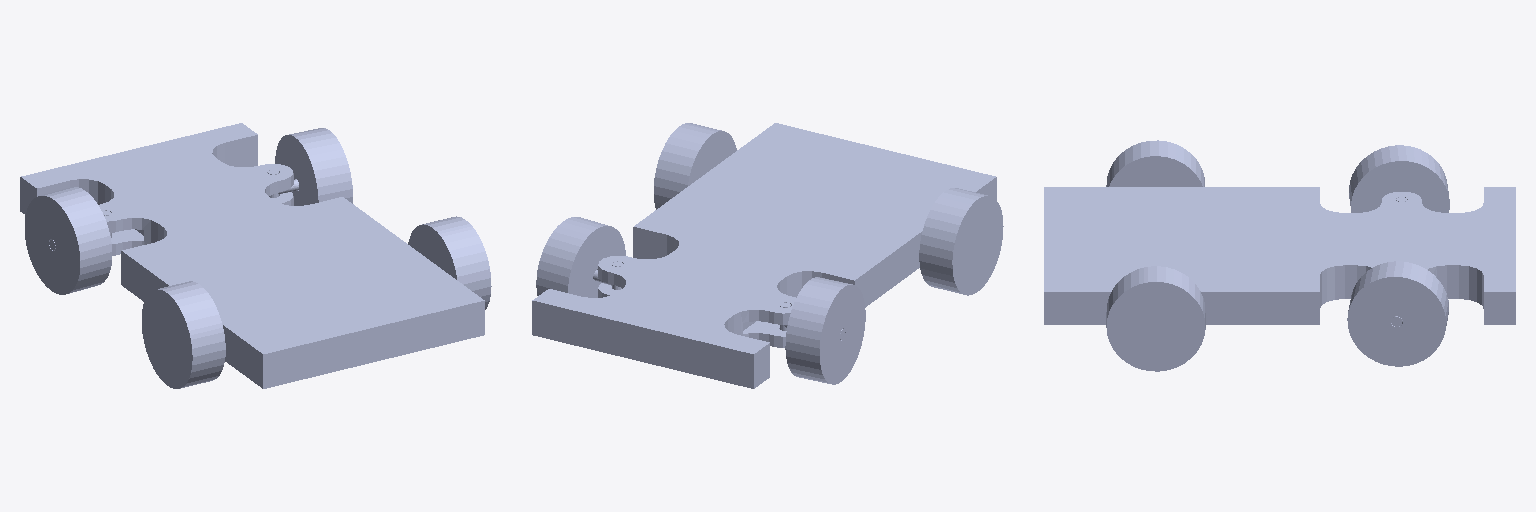
robot.urdf — sfinal:
<?xml version="1.0" encoding="utf-8"?>
<!-- This URDF was automatically created by SolidWorks to URDF Exporter! Originally created by [author] ([email redacted]) 
     Commit Version: 1.6.0-1-g15f4949  Build Version: 1.6.7594.29634
     For more information, please see http://wiki.ros.org/sw_urdf_exporter -->
<robot
  name="sfinal">
  <link name="dummylink">
  </link>
  <joint name="dummyjoint" type="fixed">
    <parent link="dummylink" />
    <child link="body" />
  </joint>
  <link
    name="body">
    <inertial>
      <origin
        xyz="4.62807247742842E-18 0.0381 0.0421106215624483"
        rpy="0 0 0" />
      <mass
        value="31.7717428185929" />
      <inertia
        ixx="2.45443901786196"
        ixy="1.5021599923963E-18"
        ixz="-2.48737455154281E-16"
        iyy="3.02159355147635"
        iyz="7.22547203238704E-18"
        izz="0.598373472245415" />
    </inertial>
    <visual>
      <origin
        xyz="0 0 0"
        rpy="0 0 0" />
      <geometry>
        <mesh
          filename="package://sfinal/meshes/body.STL" />
      </geometry>
      <material
        name="">
        <color
          rgba="0.792156862745098 0.819607843137255 0.933333333333333 1" />
      </material>
    </visual>
    <collision>
      <origin
        xyz="0 0 0"
        rpy="0 0 0" />
      <geometry>
        <mesh
          filename="package://sfinal/meshes/body.STL" />
      </geometry>
    </collision>
  </link>
  <link
    name="Front_Peg_L">
    <inertial>
      <origin
        xyz="0.0414241862736242 0.0380999954119112 2.94223301278151E-09"
        rpy="0 0 0" />
      <mass
        value="0.0794178912632823" />
      <inertia
        ixx="1.93166442907651E-05"
        ixy="6.63314076682969E-12"
        ixz="-5.57898019363171E-13"
        iyy="0.000147464981510183"
        iyz="1.28012400109424E-10"
        izz="0.000161541723087934" />
    </inertial>
    <visual>
      <origin
        xyz="0 0 0"
        rpy="0 0 0" />
      <geometry>
        <mesh
          filename="package://sfinal/meshes/Front_Peg_L.STL" />
      </geometry>
      <material
        name="">
        <color
          rgba="0.792156862745098 0.819607843137255 0.933333333333333 1" />
      </material>
    </visual>
    <collision>
      <origin
        xyz="0 0 0"
        rpy="0 0 0" />
      <geometry>
        <mesh
          filename="package://sfinal/meshes/Front_Peg_L.STL" />
      </geometry>
    </collision>
  </link>
  <joint
    name="Peg_L_Joint"
    type="revolute">
    <origin
      xyz="-0.19241 0.24963 0"
      rpy="1.5708 0 -3.0857" />
    <parent
      link="body" />
    <child
      link="Front_Peg_L" />
    <axis
      xyz="0 1 0" />
    <limit
      lower="-1.047"
      upper="1.047"
      effort="0"
      velocity="0" />
  </joint>
  <!-- <transmission name="left_steering_transmission">
      <type>transmission_interface/SimpleTransmission</type>
      <joint name="Peg_L_Joint">
        <hardwareInterface>hardware_interface/EffortJointInterface</hardwareInterface>
      </joint>
      <actuator name="left_steering_transmission_motor">
        <mechanicalReduction>1</mechanicalReduction>
        <hardwareInterface>hardware_interface/EffortJointInterface</hardwareInterface>
      </actuator>
  </transmission> -->
  <link
    name="Front_Wheel_L">
    <inertial>
      <origin
        xyz="-0.0378620487147911 5.55111512312578E-17 0"
        rpy="0 0 0" />
      <mass
        value="2.43249992415545" />
      <inertia
        ixx="0.0127509821649285"
        ixy="6.7762635780344E-19"
        ixz="2.74438674910393E-19"
        iyy="0.00755250482076537"
        iyz="-2.16840434497101E-19"
        izz="0.00755250482076537" />
    </inertial>
    <visual>
      <origin
        xyz="0 0 0"
        rpy="0 0 0" />
      <geometry>
        <mesh
          filename="package://sfinal/meshes/Front_Wheel_L.STL" />
      </geometry>
      <material
        name="">
        <color
          rgba="0.792156862745098 0.819607843137255 0.933333333333333 1" />
      </material>
    </visual>
    <collision>
      <origin
        xyz="0 0 0"
        rpy="0 0 0" />
      <geometry>
        <mesh
          filename="package://sfinal/meshes/Front_Wheel_L.STL" />
      </geometry>
    </collision>
  </link>
  <joint
    name="Wheel_L_Joint"
    type="continuous">
    <origin
      xyz="0.051038 0.0381 0"
      rpy="-1.7102 0 3.1416" />
    <parent
      link="Front_Peg_L" />
    <child
      link="Front_Wheel_L" />
    <axis
      xyz="1 0 0" />
  </joint>
  <link
    name="Front_Peg_R">
    <inertial>
      <origin
        xyz="0.0414241862180602 -0.0381000063821036 4.02376604258237E-09"
        rpy="0 0 0" />
      <mass
        value="0.0794178917151869" />
      <inertia
        ixx="1.9316644225953E-05"
        ixy="9.24219008763816E-12"
        ixz="-1.65264621611017E-12"
        iyy="0.000147464980958411"
        iyz="1.27986923700734E-10"
        izz="0.000161541722659423" />
    </inertial>
    <visual>
      <origin
        xyz="0 0 0"
        rpy="0 0 0" />
      <geometry>
        <mesh
          filename="package://sfinal/meshes/Front_Peg_R.STL" />
      </geometry>
      <material
        name="">
        <color
          rgba="0.792156862745098 0.819607843137255 0.933333333333333 1" />
      </material>
    </visual>
    <collision>
      <origin
        xyz="0 0 0"
        rpy="0 0 0" />
      <geometry>
        <mesh
          filename="package://sfinal/meshes/Front_Peg_R.STL" />
      </geometry>
    </collision>
  </link>
  <joint
    name="Peg_R_Joint"
    type="revolute">
    <origin
      xyz="0.19241 0.24963 0"
      rpy="-1.5708 0 -0.08116" />
    <parent
      link="body" />
    <child
      link="Front_Peg_R" />
    <axis
      xyz="0 1 0" />
    <limit
      lower="-1.047"
      upper="1.047"
      effort="0"
      velocity="0" />
  </joint>
    <!-- <transmission name="right_steering_transmission">
      <type>transmission_interface/SimpleTransmission</type>
      <joint name="Peg_R_Joint">
        <hardwareInterface>hardware_interface/EffortJointInterface</hardwareInterface>
      </joint>
      <actuator name="left_steering_transmission_motor">
        <mechanicalReduction>1</mechanicalReduction>
        <hardwareInterface>hardware_interface/EffortJointInterface</hardwareInterface>
      </actuator>
  </transmission> -->
  <link
    name="Front_Wheel_R">
    <inertial>
      <origin
        xyz="0.0572001403278296 -4.16333634234434E-16 1.66533453693773E-16"
        rpy="0 0 0" />
      <mass
        value="2.43249992415545" />
      <inertia
        ixx="0.0127509821649286"
        ixy="7.15573433840433E-18"
        ixz="-2.22261445359528E-18"
        iyy="0.00755250482076537"
        iyz="-3.25260651745651E-19"
        izz="0.00755250482076537" />
    </inertial>
    <visual>
      <origin
        xyz="0 0 0"
        rpy="0 0 0" />
      <geometry>
        <mesh
          filename="package://sfinal/meshes/Front_Wheel_R.STL" />
      </geometry>
      <material
        name="">
        <color
          rgba="0.792156862745098 0.819607843137255 0.933333333333333 1" />
      </material>
    </visual>
    <collision>
      <origin
        xyz="0 0 0"
        rpy="0 0 0" />
      <geometry>
        <mesh
          filename="package://sfinal/meshes/Front_Wheel_R.STL" />
      </geometry>
    </collision>
  </link>
  <joint
    name="Wheel_R_Joint"
    type="continuous">
    <origin
      xyz="0.0317 -0.0381 0"
      rpy="2.9611 0 0" />
    <parent
      link="Front_Peg_R" />
    <child
      link="Front_Wheel_R" />
    <axis
      xyz="1 0 0" />
  </joint>
  <link
    name="Back_Wheel_L">
    <inertial>
      <origin
        xyz="4.85722573273506E-16 0.163001147666413 2.58126853225349E-15"
        rpy="0 0 0" />
      <mass
        value="2.52323603243744" />
      <inertia
        ixx="0.00817145539435747"
        ixy="1.47706606444059E-18"
        ixz="-2.16840434497101E-19"
        iyy="0.0127575008904871"
        iyz="3.48736938642137E-17"
        izz="0.00817145539435747" />
    </inertial>
    <visual>
      <origin
        xyz="0 0 0"
        rpy="0 0 0" />
      <geometry>
        <mesh
          filename="package://sfinal/meshes/Back_Wheel_L.STL" />
      </geometry>
      <material
        name="">
        <color
          rgba="0.792156862745098 0.819607843137255 0.933333333333333 1" />
      </material>
    </visual>
    <collision>
      <origin
        xyz="0 0 0"
        rpy="0 0 0" />
      <geometry>
        <mesh
          filename="package://sfinal/meshes/Back_Wheel_L.STL" />
      </geometry>
    </collision>
  </link>
  <joint
    name="Back_Wheel_L_Joint"
    type="continuous">
    <origin
      xyz="-0.1397 -0.254 0.0381"
      rpy="0 -1.113 1.5708" />
    <parent
      link="body" />
    <child
      link="Back_Wheel_L" />
    <axis
      xyz="0 1 0" />
  </joint>
    <!-- <transmission name="Back_Wheel_L_Transmission">
      <type>transmission_interface/SimpleTransmission</type>
      <joint name="Back_Wheel_L_Joint">
        <hardwareInterface>hardware_interface/EffortJointInterface</hardwareInterface>
      </joint>
      <actuator name="left_steering_transmission_motor">
        <mechanicalReduction>1</mechanicalReduction>
        <hardwareInterface>hardware_interface/EffortJointInterface</hardwareInterface>
      </actuator>
  </transmission> -->
  <link
    name="Back_Wheel_R">
    <inertial>
      <origin
        xyz="-6.38378239159465E-16 0.163001147666413 -5.63438184997267E-15"
        rpy="0 0 0" />
      <mass
        value="2.52323603243744" />
      <inertia
        ixx="0.00817145539435747"
        ixy="2.70573768306384E-19"
        ixz="-4.33680868994202E-19"
        iyy="0.0127575008904871"
        iyz="-1.25839697405665E-16"
        izz="0.00817145539435747" />
    </inertial>
    <visual>
      <origin
        xyz="0 0 0"
        rpy="0 0 0" />
      <geometry>
        <mesh
          filename="package://sfinal/meshes/Back_Wheel_R.STL" />
      </geometry>
      <material
        name="">
        <color
          rgba="0.792156862745098 0.819607843137255 0.933333333333333 1" />
      </material>
    </visual>
    <collision>
      <origin
        xyz="0 0 0"
        rpy="0 0 0" />
      <geometry>
        <mesh
          filename="package://sfinal/meshes/Back_Wheel_R.STL" />
      </geometry>
    </collision>
  </link>
  <joint
    name="Back_Wheel_R_Joint"
    type="continuous">
    <origin
      xyz="0.1397 -0.254 0.0381"
      rpy="0 0.25328 -1.5708" />
    <parent
      link="body" />
    <child
      link="Back_Wheel_R" />
    <axis
      xyz="0 1 0" />
  </joint>
  <!-- <transmission name="Back_Wheel_R_Transmission">
      <type>transmission_interface/SimpleTransmission</type>
      <joint name="Back_Wheel_R_Joint">
        <hardwareInterface>hardware_interface/EffortJointInterface</hardwareInterface>
      </joint>
      <actuator name="left_steering_transmission_motor">
        <mechanicalReduction>1</mechanicalReduction>
        <hardwareInterface>hardware_interface/EffortJointInterface</hardwareInterface>
      </actuator>
  </transmission> -->

<transmission name="left_steering_transmission">
    <type>transmission_interface/SimpleTransmission</type>
    <joint name="Peg_L_Joint">
      <hardwareInterface>hardware_interface/EffortJointInterface</hardwareInterface>
    </joint>
    <actuator name="left_steering_transmission_motor"/>
  </transmission>
  <transmission name="right_steering_transmission">
    <type>transmission_interface/SimpleTransmission</type>
    <joint name="Peg_R_Joint">
      <hardwareInterface>hardware_interface/EffortJointInterface</hardwareInterface>
    </joint>
    <actuator name="right_steering_transmission_motor"/>
  </transmission>
  <transmission name="back_left_wheel_transmission">
    <type>transmission_interface/SimpleTransmission</type>
    <joint name="Back_Wheel_L_Joint">
      <hardwareInterface>hardware_interface/EffortJointInterface</hardwareInterface>
    </joint>
    <actuator name="back_left_wheel_transmission_motor"/>
  </transmission>
  <transmission name="back_right_wheel_transmission">
    <type>transmission_interface/SimpleTransmission</type>
    <joint name="Back_Wheel_R_Joint">
      <hardwareInterface>hardware_interface/EffortJointInterface</hardwareInterface>
    </joint>
    <actuator name="back_right_wheel_transmission_motor"/>
  </transmission>

</robot>

--- Render facts (derived) ---
Views: 3 orthographic renders of the robot side by side, from view 1: azimuth 30°, elevation 25°; view 2: azimuth 150°, elevation 25°; view 3: azimuth 270°, elevation 25°.
Robot: sfinal — 8 links, 7 joints (2 revolute, 4 continuous, 1 fixed); root link dummylink; default pose: every joint at zero.
Visible links, largest first — view 1: body, Front_Wheel_L, Back_Wheel_L, Front_Wheel_R, Back_Wheel_R; view 2: body, Back_Wheel_L, Front_Wheel_L, Front_Wheel_R, Back_Wheel_R; view 3: body, Back_Wheel_R, Front_Wheel_R, Front_Wheel_L, Back_Wheel_L.
Boxes of the visible links, x1,y1,x2,y2 form: body: (20,123,484,388); Front_Wheel_L: (25,187,111,294); Back_Wheel_L: (142,281,225,388); Front_Wheel_R: (275,128,352,205); Back_Wheel_R: (408,216,491,309); body: (532,123,996,388); Back_Wheel_L: (919,188,1003,295); Front_Wheel_L: (785,277,865,384); Front_Wheel_R: (536,217,625,297); Back_Wheel_R: (654,123,736,209); body: (1044,187,1515,324); Back_Wheel_R: (1106,266,1205,371); Front_Wheel_R: (1347,261,1448,366); Front_Wheel_L: (1349,145,1449,212); Back_Wheel_L: (1106,140,1204,186).
Size in the robot's own frame: 0.6858 by 0.9652 by 0.2032 metres.
7 mesh visuals loaded from 7 distinct referenced files (7 binary STL).